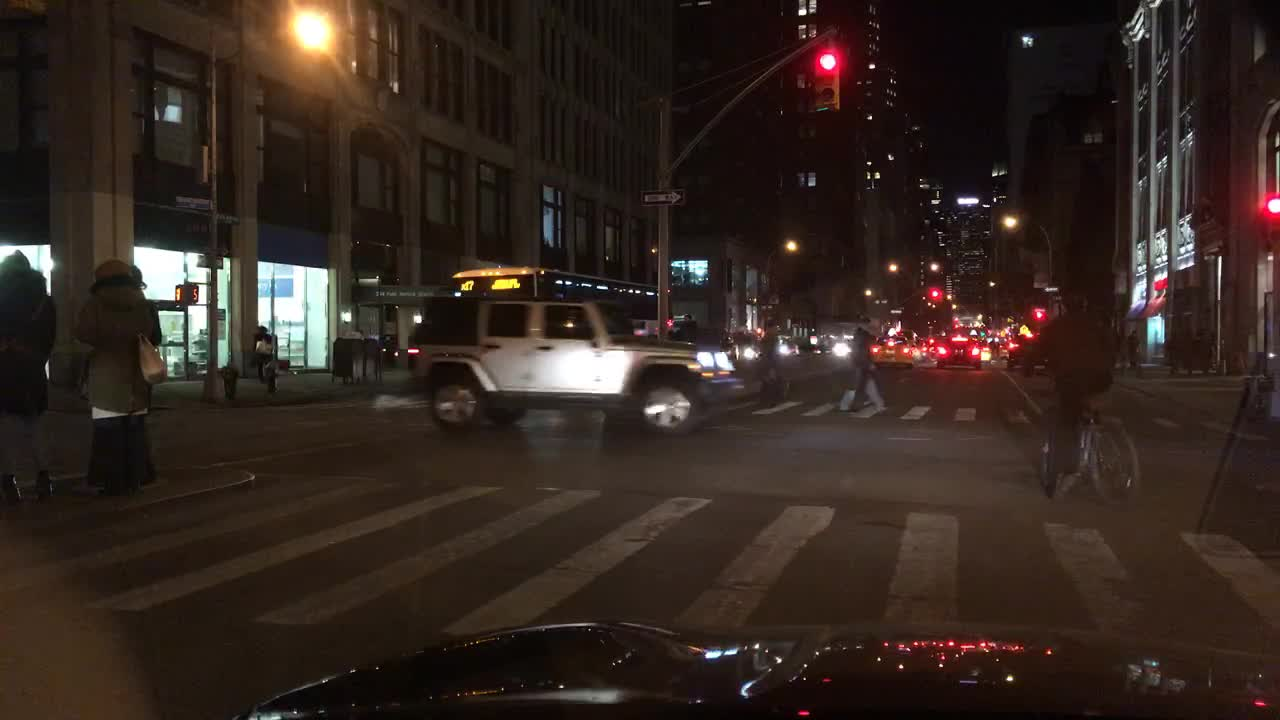bike: (1028, 355, 1141, 506)
bus: (450, 266, 671, 339)
car: (408, 290, 744, 438), (1001, 329, 1046, 377), (935, 326, 980, 369), (742, 332, 800, 360), (868, 334, 913, 368), (812, 329, 858, 358), (897, 328, 922, 361), (716, 334, 740, 359), (976, 333, 994, 362), (996, 335, 1011, 357), (921, 335, 935, 356)
person: (76, 256, 167, 497), (0, 248, 56, 505), (836, 325, 887, 412), (755, 333, 781, 405), (252, 325, 276, 384), (671, 311, 697, 343), (1124, 328, 1140, 368)
rider: (1036, 290, 1113, 497)
traffic light: (814, 48, 839, 111), (173, 281, 198, 301), (1267, 189, 1278, 221), (1033, 306, 1042, 319), (931, 286, 938, 299)
traffic sign: (640, 190, 685, 205), (176, 195, 213, 209), (200, 245, 232, 255), (216, 213, 241, 223), (214, 307, 225, 320), (1042, 284, 1057, 291), (888, 307, 902, 314)
